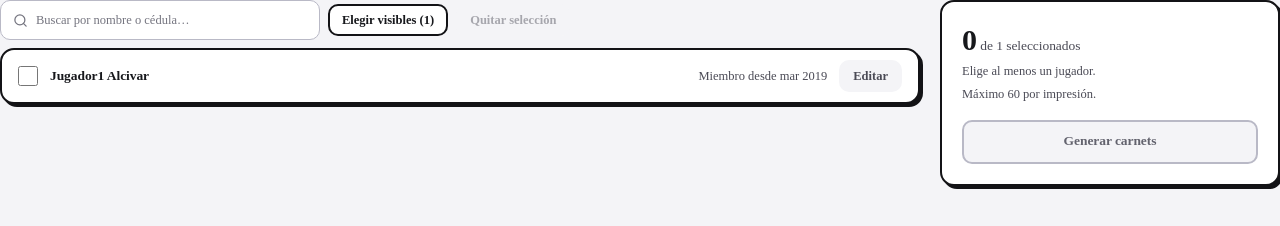
Test: CarnetPicker — «Miembro desde» on the row (#1749, S1) › clears the date from the row with «Quitar»
Click the button with aria-label "Editar Miembro desde de Jugador1 Alcivar". click: point(871, 76)
box: top-left (839, 60), bottom-right (902, 92)
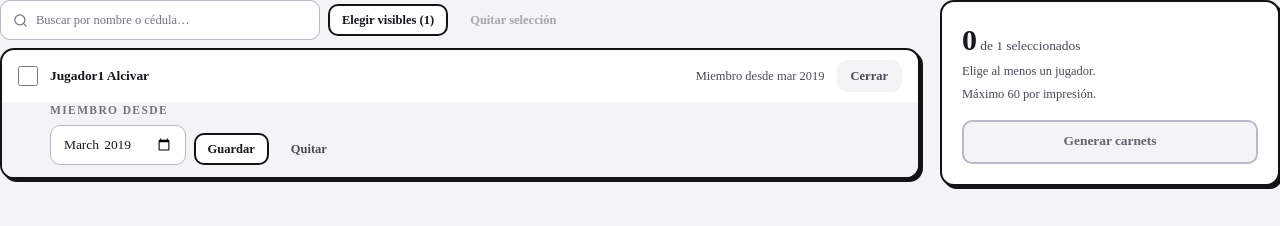
Click the button "Quitar". click: point(309, 149)
box: top-left (277, 133), bottom-right (341, 165)
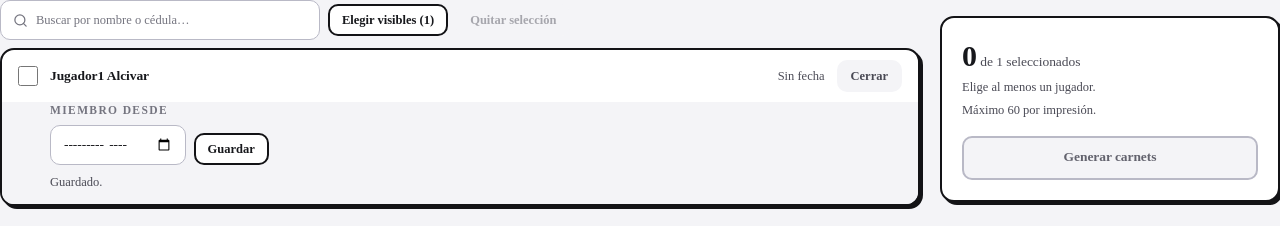
expect the text "Sin fecha" is shown: met, box top-left (778, 67), bottom-right (825, 85)
